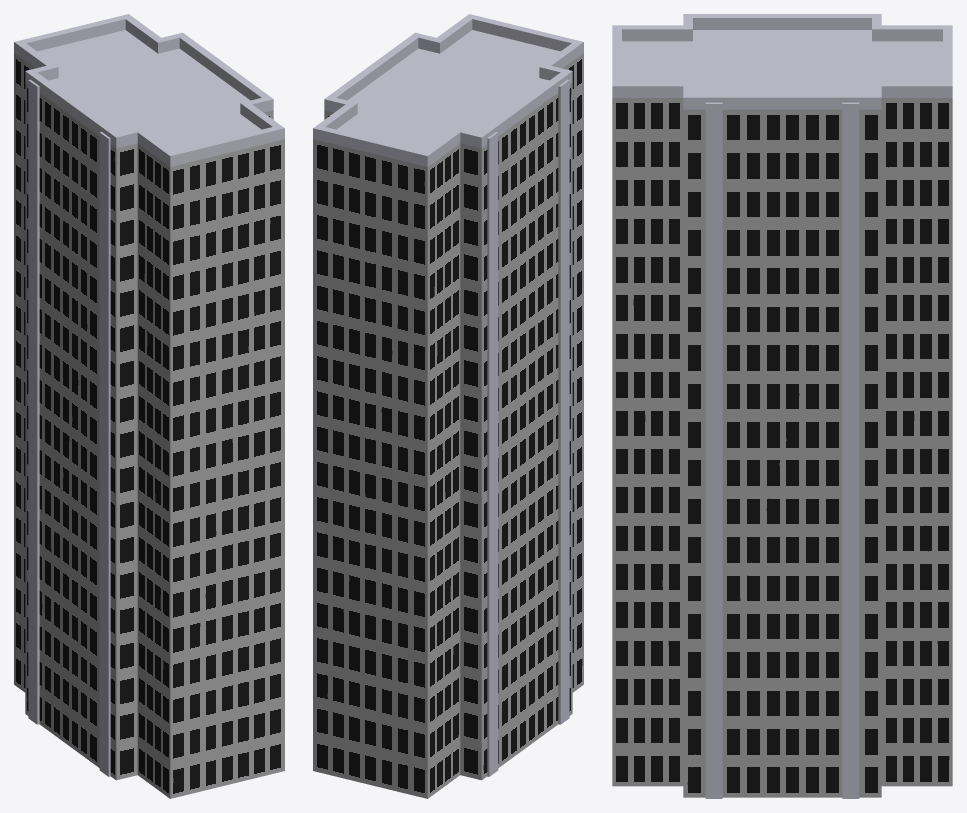
The model's file is Building_BM5.fbx.
3 renders of one model, left to right at view 1: azimuth 30°, elevation 25°; view 2: azimuth 150°, elevation 25°; view 3: azimuth 270°, elevation 25°, orthographic. The views are drawn at different scales.
Visible parts, largest first — view 1: Building_BM_5; view 2: Building_BM_5; view 3: Building_BM_5.
Boxes of the visible parts, bbox=[...] form: Building_BM_5: bbox=[14, 14, 284, 798]; Building_BM_5: bbox=[313, 14, 583, 798]; Building_BM_5: bbox=[612, 14, 952, 798].
Bounding box in the file's own units: 2272 × 8609 × 3790.
